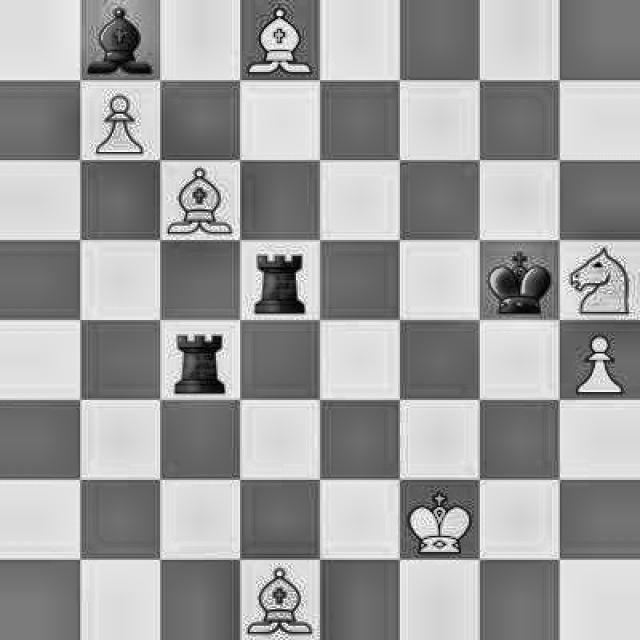black bishop: (80, 0, 158, 79)
black king: (484, 247, 553, 316)
black rook: (249, 242, 315, 315), (164, 324, 231, 394)
white bishop: (243, 0, 317, 80), (163, 165, 241, 239), (248, 563, 314, 637)
white king: (402, 484, 473, 558)
white pawn: (85, 86, 153, 157), (562, 328, 630, 398)
whiteknight: (568, 244, 634, 314)
